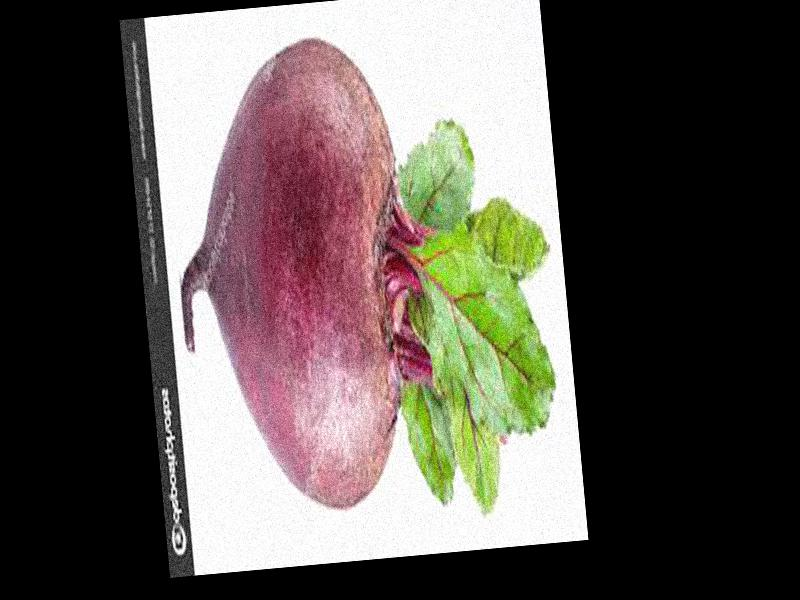Beet: (161, 18, 571, 538)
